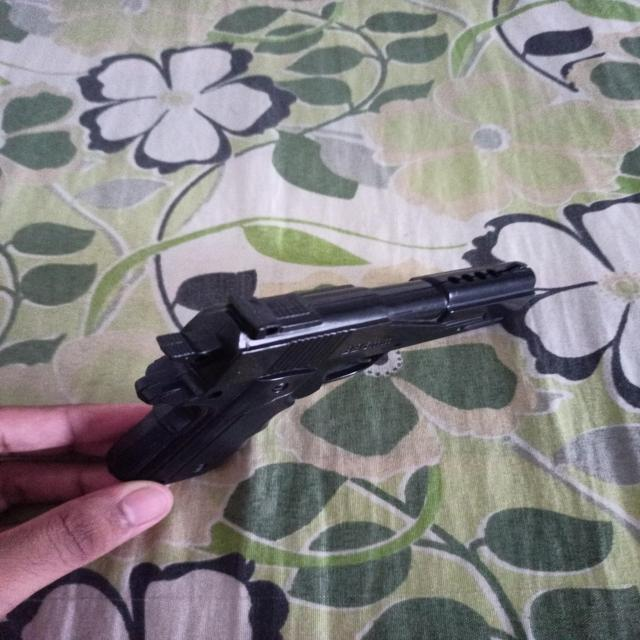handgun: (113, 263, 538, 480)
